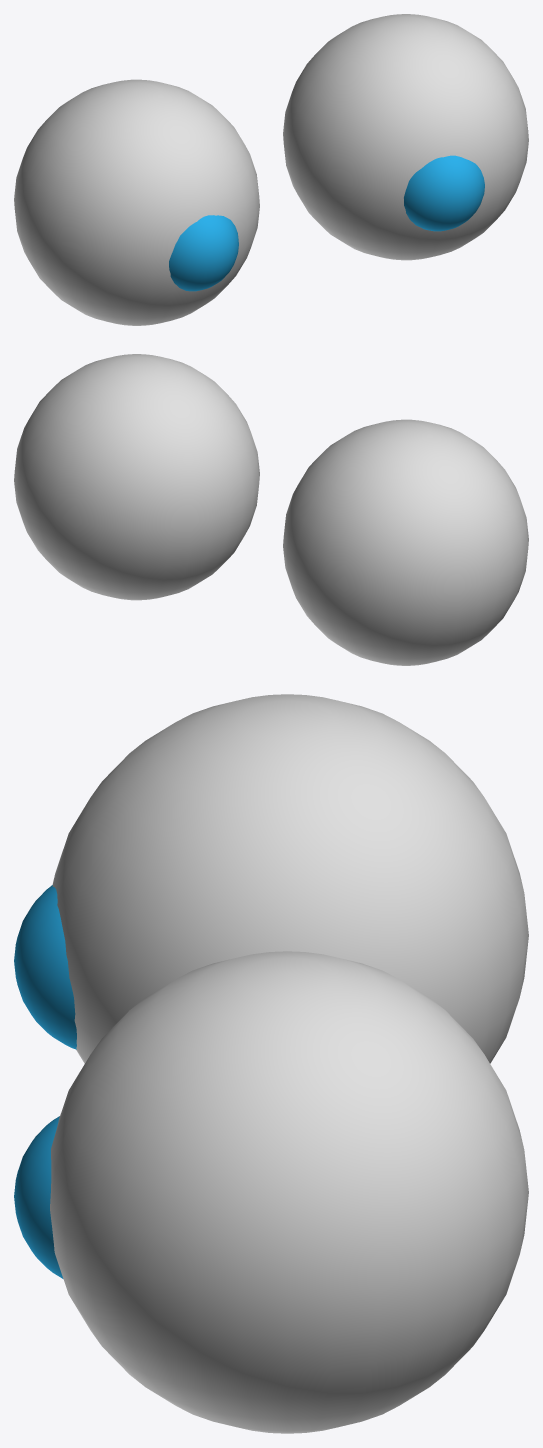
The model's file is eye.fbx.
3 views of the same model, one above another, from view 1: azimuth 30°, elevation 25°; view 2: azimuth 150°, elevation 25°; view 3: azimuth 270°, elevation 25° (orthographic). The views are drawn at different scales.
Parts seen in each view (by area): view 1: eye, eyeball; view 2: eye; view 3: eye, eyeball.
Part boxes in pixels (x1,y1,x2,y2): eye: (14,14,528,325); eyeball: (169,155,484,291); eye: (14,354,528,665); eye: (50,694,528,1433); eyeball: (14,885,76,1278).
Size of the model in its own units: 452 by 200 by 213.
